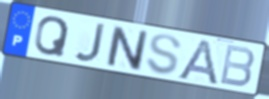A: (174, 38, 220, 87)
B: (218, 43, 257, 89)
J: (73, 22, 108, 64)
N: (105, 24, 150, 73)
Q: (33, 15, 72, 59)
S: (144, 33, 183, 77)
